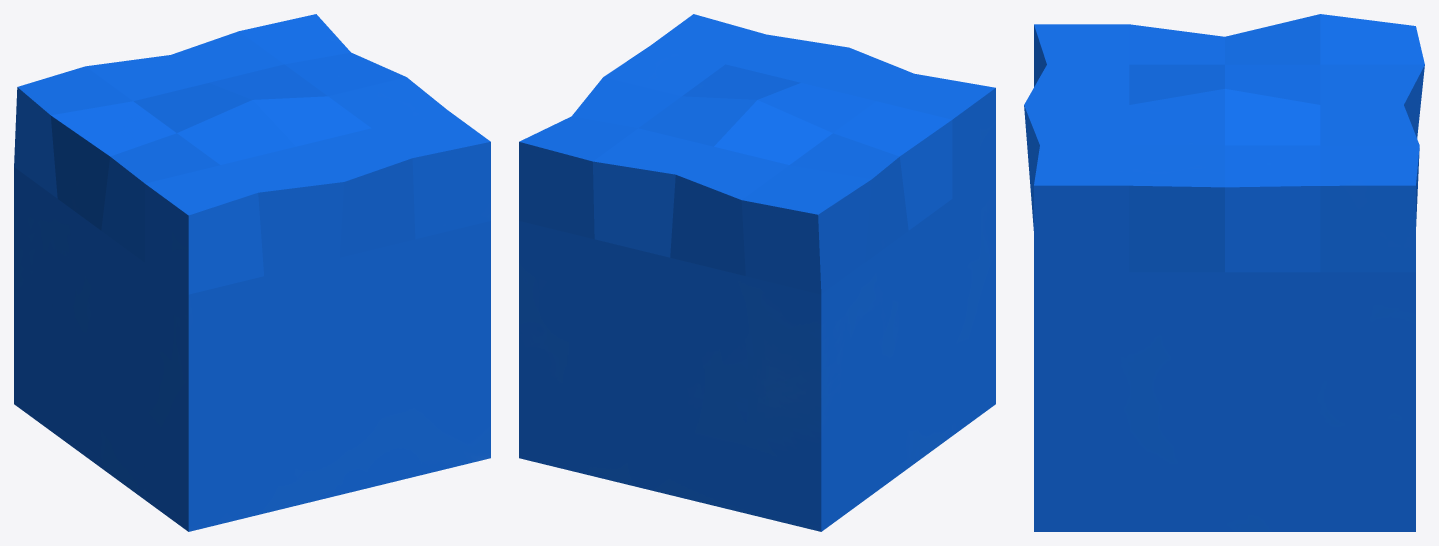
File: water.glb
The picture shows the model from 3 angles, left to right: view 1: azimuth 30°, elevation 25°; view 2: azimuth 150°, elevation 25°; view 3: azimuth 270°, elevation 25°; orthographic projection. The views are drawn at different scales.
Parts seen in each view (by area): view 1: Cube; view 2: Cube; view 3: Cube.
Boxes of the visible parts, x1,y1,x2,y2 form: Cube: [14, 14, 490, 531]; Cube: [519, 14, 995, 531]; Cube: [1024, 14, 1424, 531].
Bounding box in the file's own units: 1.03 × 1.05 × 1.05.
1 material, 1 textured.
